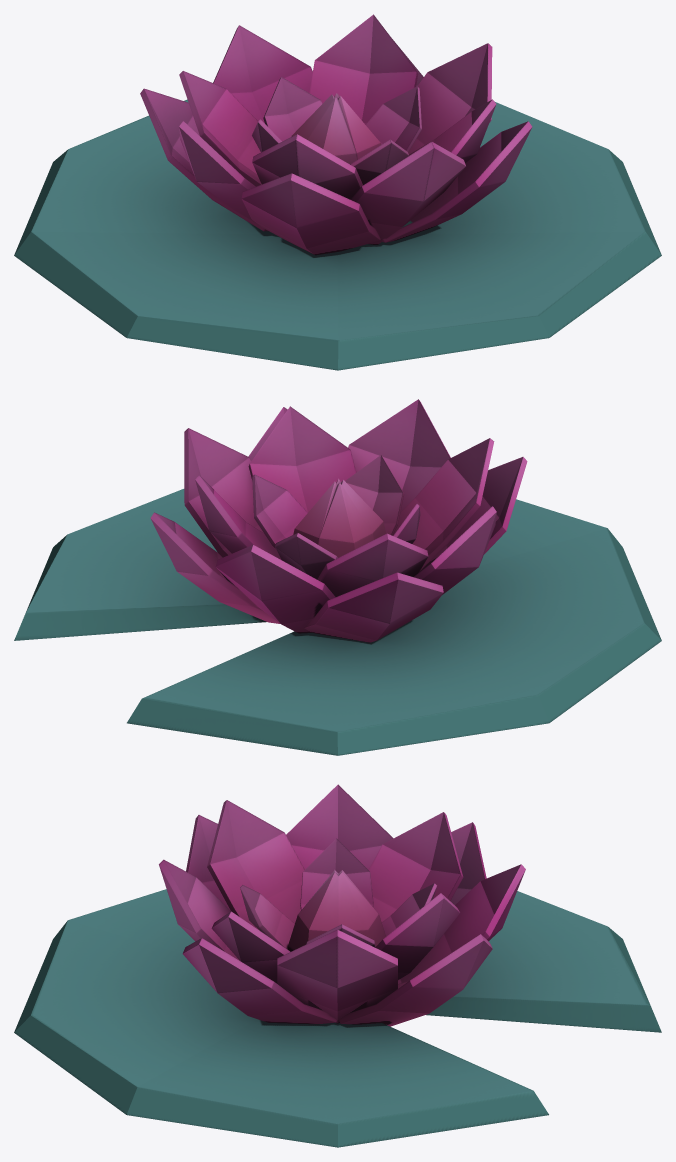
The model's file is purple_water_lily.glb.
3 views of the same model, one above another, from view 1: azimuth 30°, elevation 25°; view 2: azimuth 150°, elevation 25°; view 3: azimuth 270°, elevation 25° (orthographic).
Visible parts, largest first — view 1: Lilypad_mesh; view 2: Lilypad_mesh; view 3: Lilypad_mesh.
Part boxes in pixels (x1=…): Lilypad_mesh: x1=14, y1=14, x2=661, y2=370; Lilypad_mesh: x1=14, y1=399, x2=661, y2=755; Lilypad_mesh: x1=14, y1=784, x2=661, y2=1147.
Bounding box in the file's own units: 10.71 × 2.99 × 10.88.
1 material, 1 textured.
